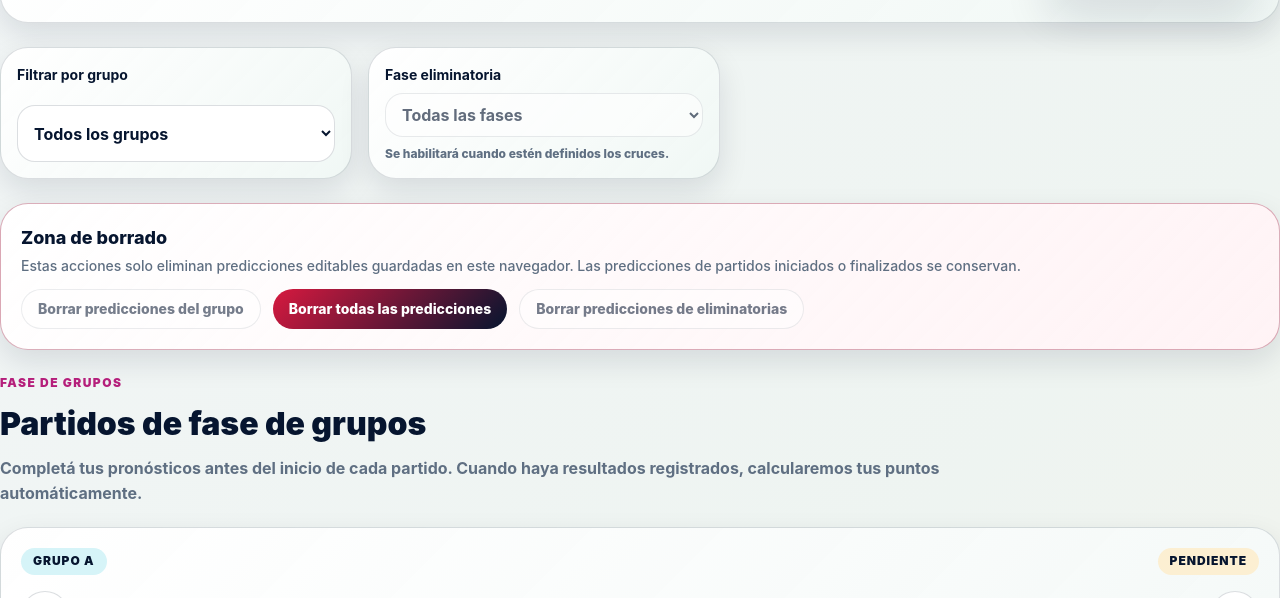
Test: PredictionFixture › does not clear predictions when reset confirmation is cancelled
(page scrolled)
Check: the dropdown labelled "Filtrar por grupo" is shown, box [17,105,335,162]
Click the button "Borrar todas las predicciones".
click(390, 309)  # box [273,289,507,329]
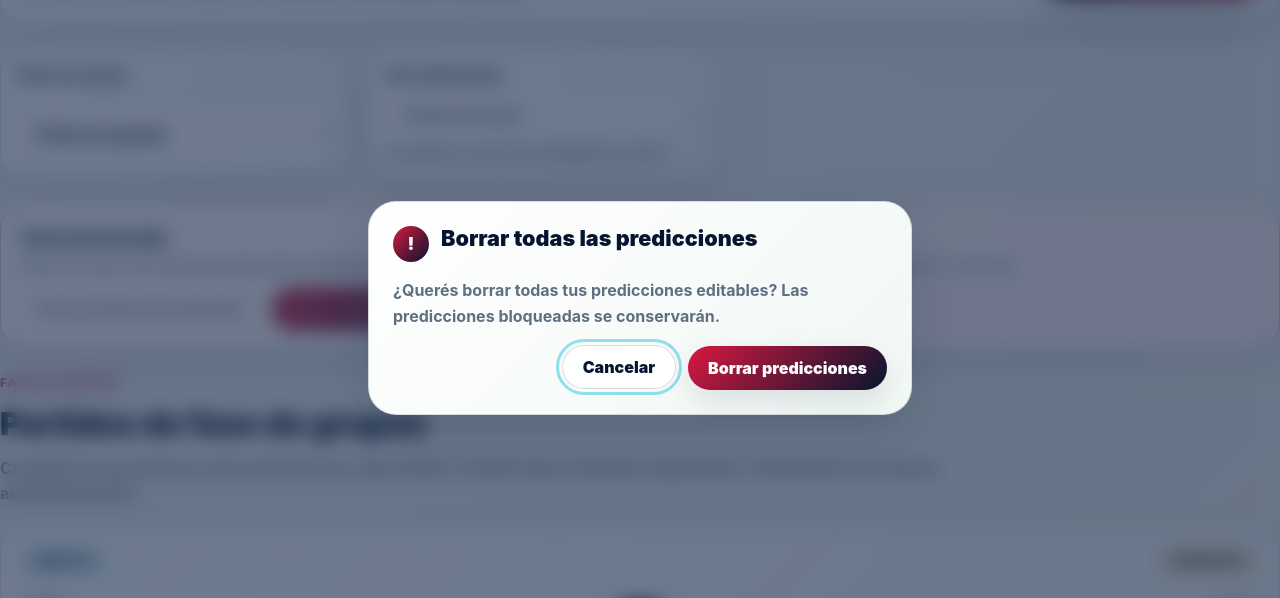
Check: the dialog shows "Borrar todas las predicciones", box [441,225,758,251]
Click the button "Cancelar".
click(619, 367)  # box [562,345,676,389]
(page scrolled)
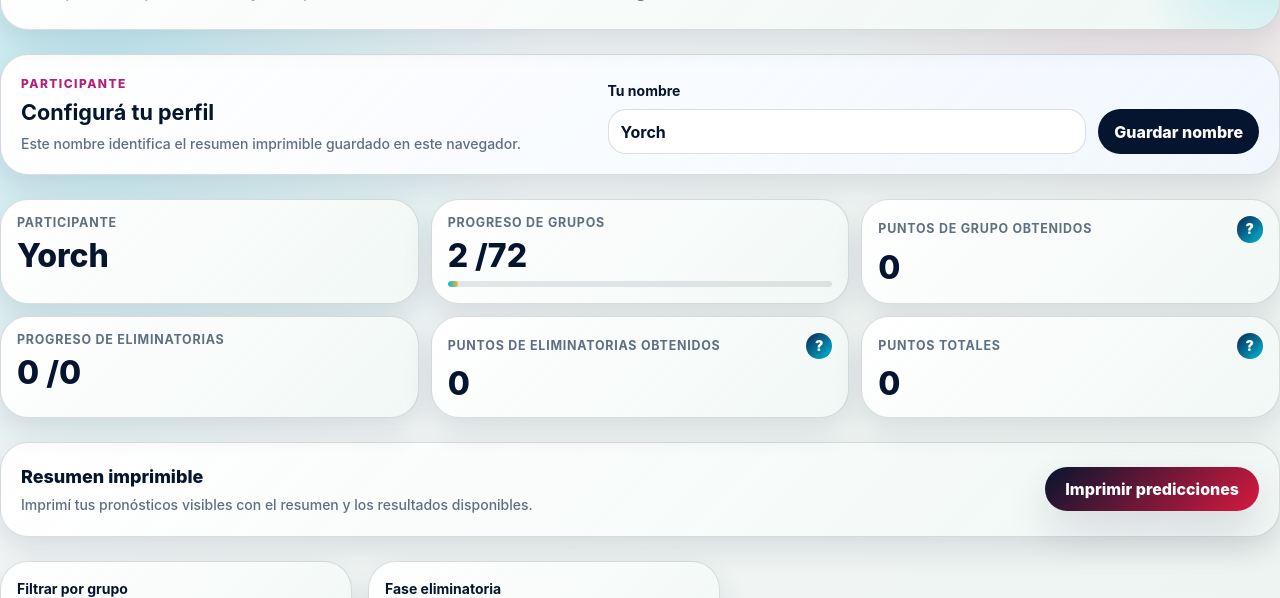
Check: the element named "Resumen de predicciones" shows "2", box [448,236,527,275]
Check: the dialog is gone
